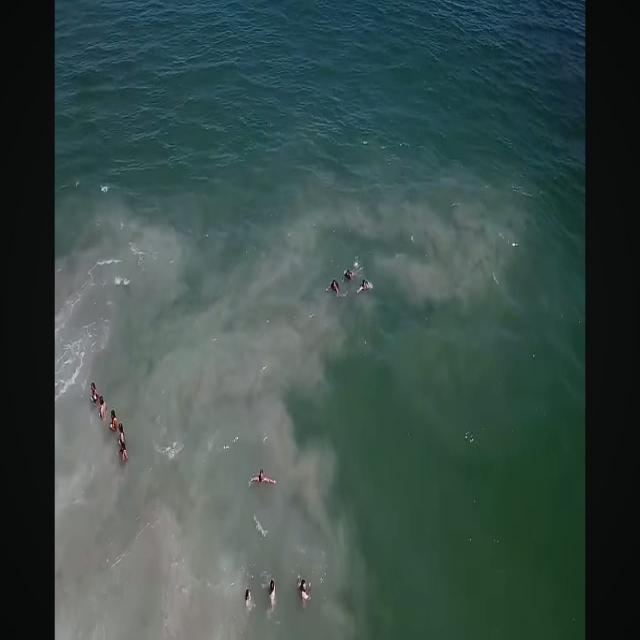humans: (247, 461, 276, 494), (296, 573, 312, 611), (356, 268, 373, 302), (265, 573, 279, 612), (339, 259, 354, 290), (328, 271, 341, 303), (114, 416, 128, 444), (89, 376, 100, 409), (97, 395, 108, 425), (118, 443, 130, 465), (109, 411, 119, 433), (246, 583, 252, 611)
